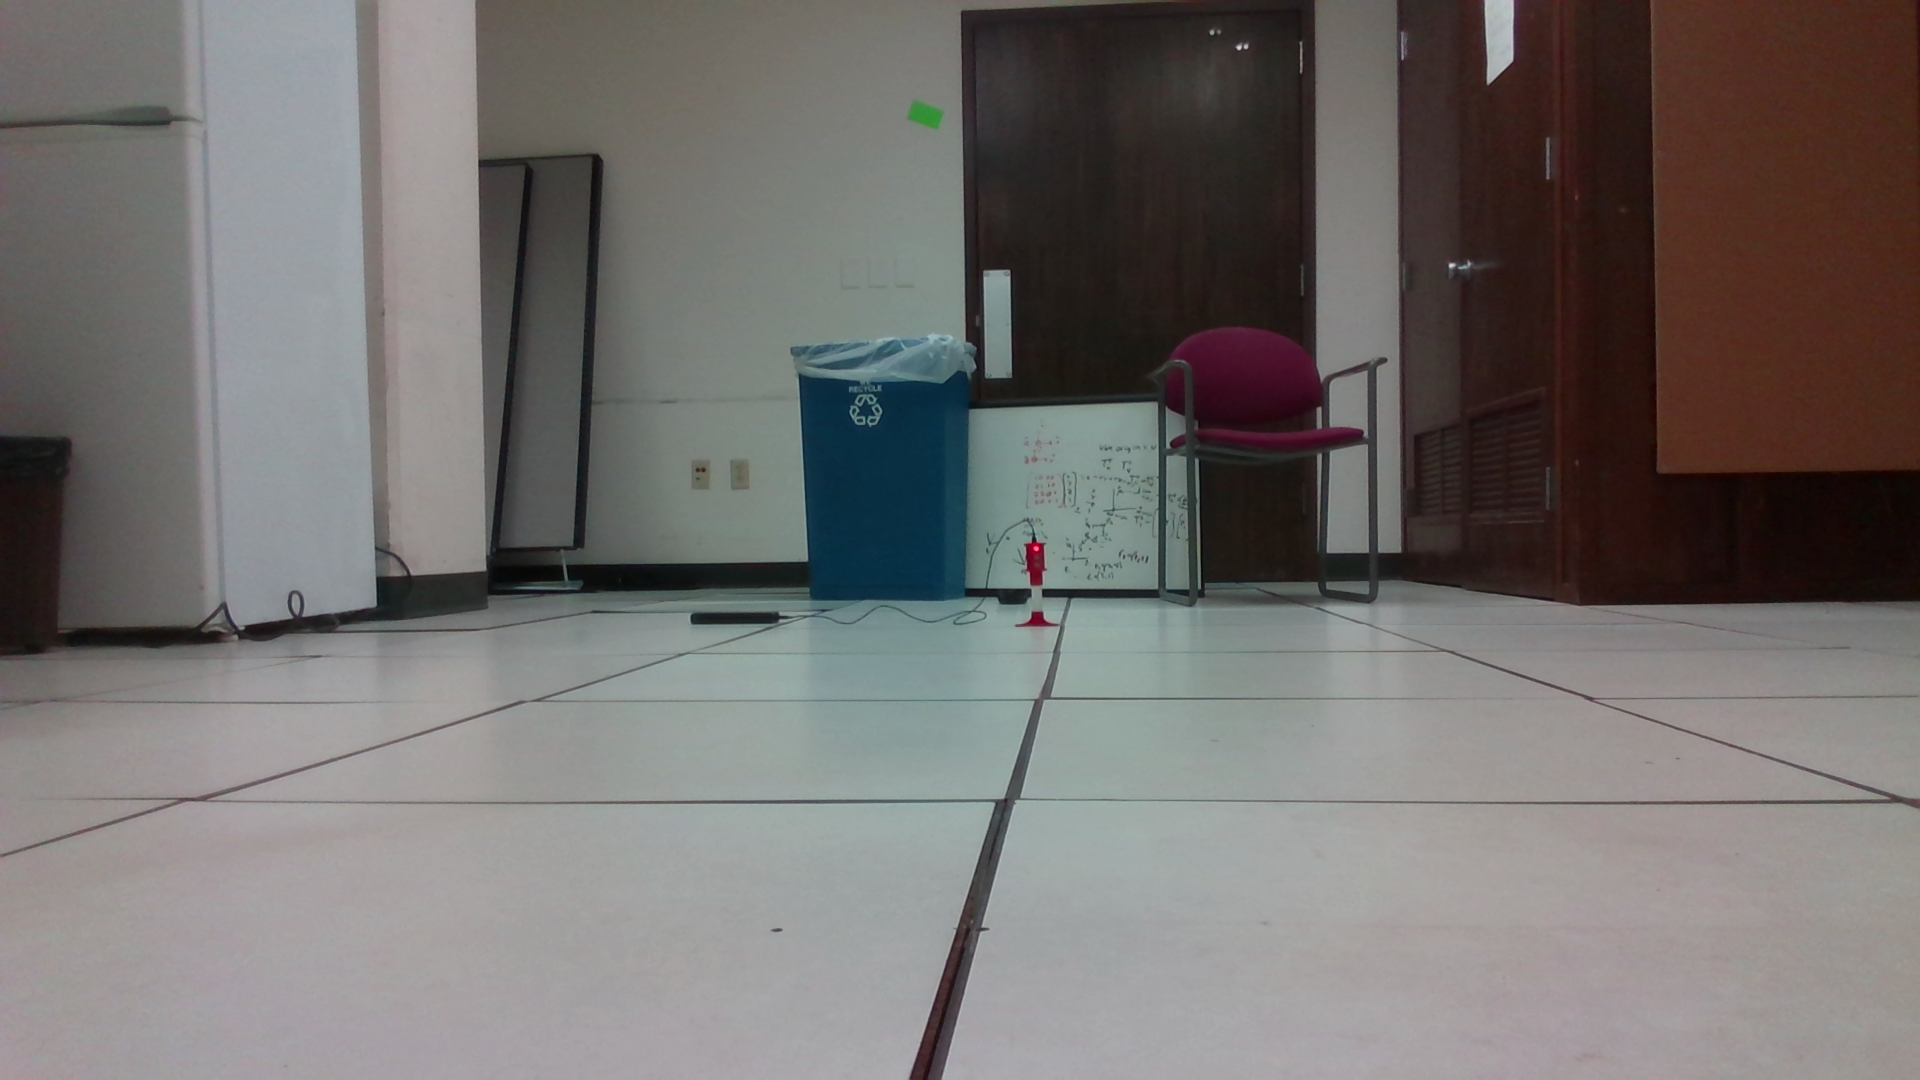stoplight: (1025, 537, 1048, 588)
